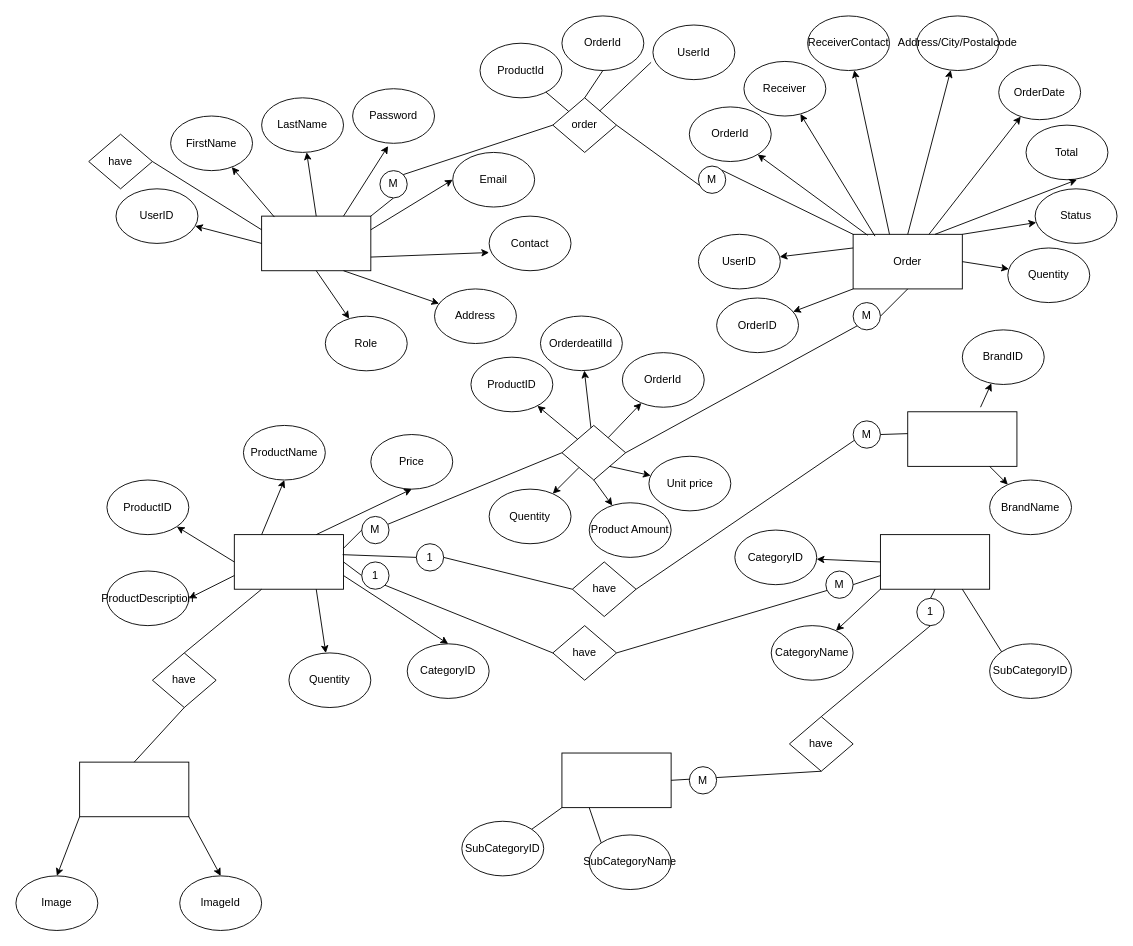
The diagram is 1133 pixels wide and 946 high, and some of its shapes have lost their labels. The centre of each missing label's shape, as x and y in pixels:
Brand: (962,438)
Category: (935,561)
Images: (134,789)
Orderdeatils: (593,452)
Product: (288,561)
SubCategory: (616,780)
User: (316,243)
